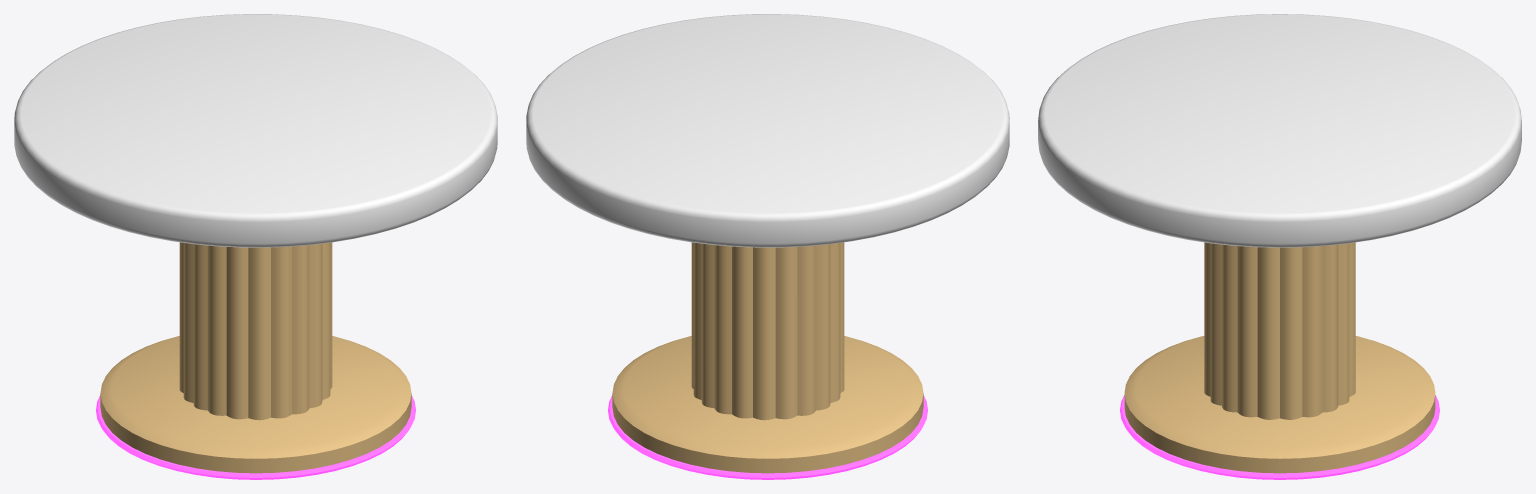
File: JAC_08_Mesa_Pedestal.glb
The picture shows the model from 3 angles, left to right: view 1: azimuth 30°, elevation 25°; view 2: azimuth 150°, elevation 25°; view 3: azimuth 270°, elevation 25°; orthographic projection.
Visible parts, largest first — view 1: JAC_08_Mesa_Pedestal; view 2: JAC_08_Mesa_Pedestal; view 3: JAC_08_Mesa_Pedestal.
Boxes of the visible parts, x1,y1,x2,y2 form: JAC_08_Mesa_Pedestal: (14, 14, 497, 479); JAC_08_Mesa_Pedestal: (526, 14, 1009, 479); JAC_08_Mesa_Pedestal: (1038, 14, 1521, 479).
Bounding box in the file's own units: 0.84 × 0.58 × 0.84.
